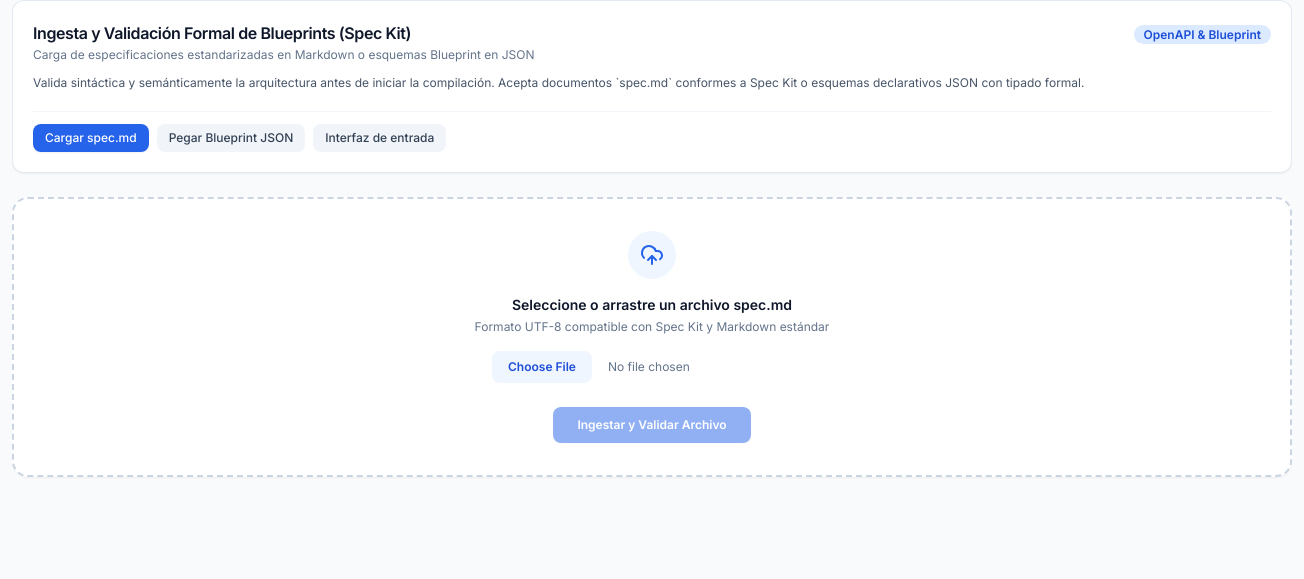
Views: StudioOverview, SpecIngestion, Requirements › SpecIngestionView › allows toggling between File Upload and JSON Editor tabs
Expected: the heading "Seleccione o arrastre un archivo spec.md" is shown, [512,296,792,313]
Click the button "Pegar Blueprint JSON" at (231,138), box [157,124,305,152]
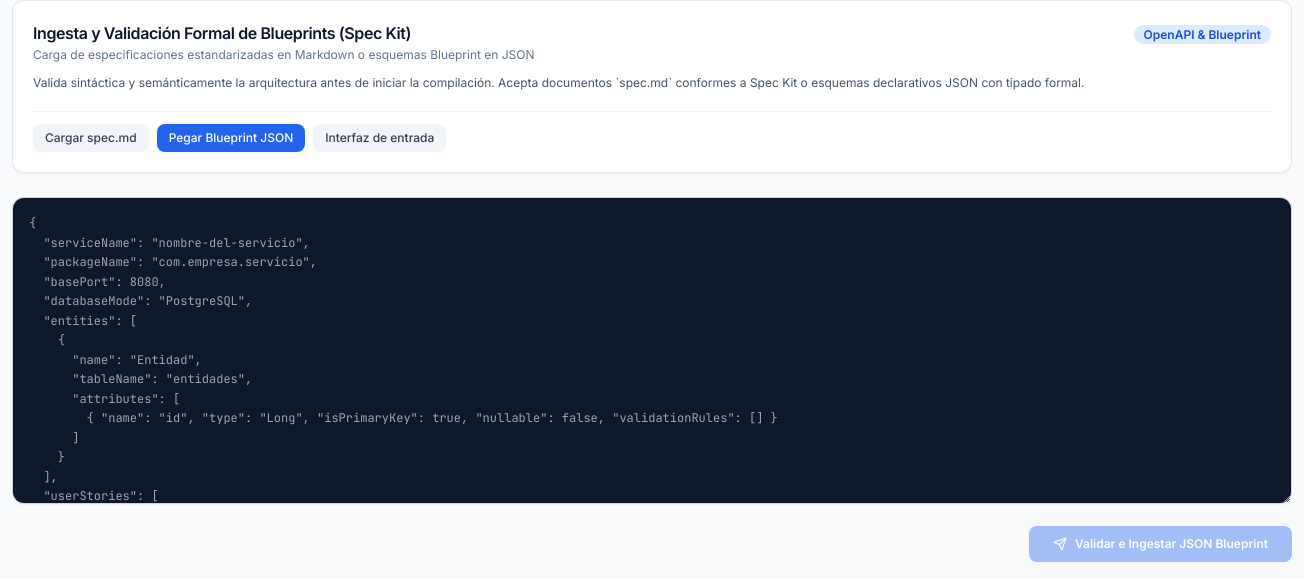
Result: the text box is shown at [12,197,1292,504]
